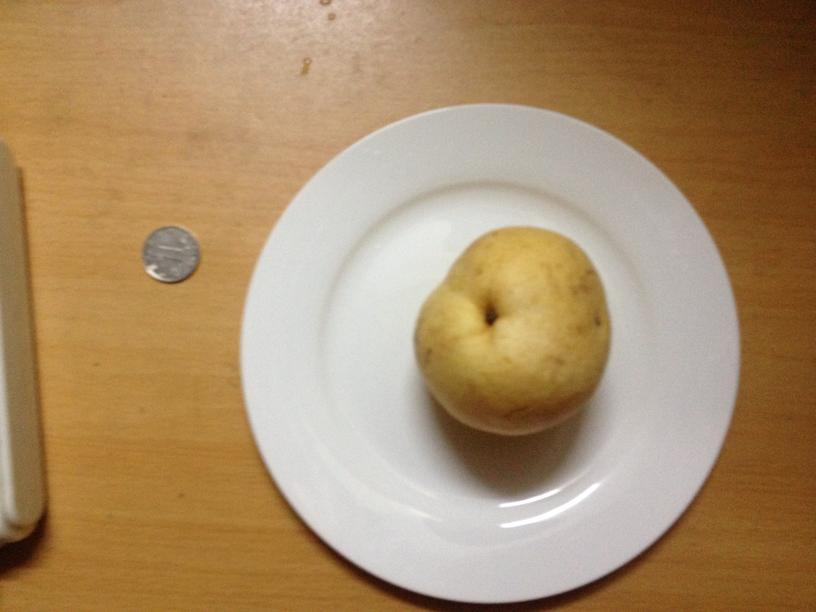coin: (139, 222, 202, 285)
pear: (404, 220, 611, 436)
